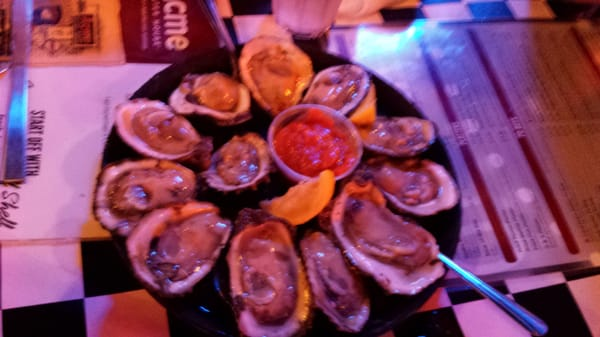curry: (8, 4, 598, 337)
salad: (100, 158, 197, 214), (169, 72, 253, 127)
